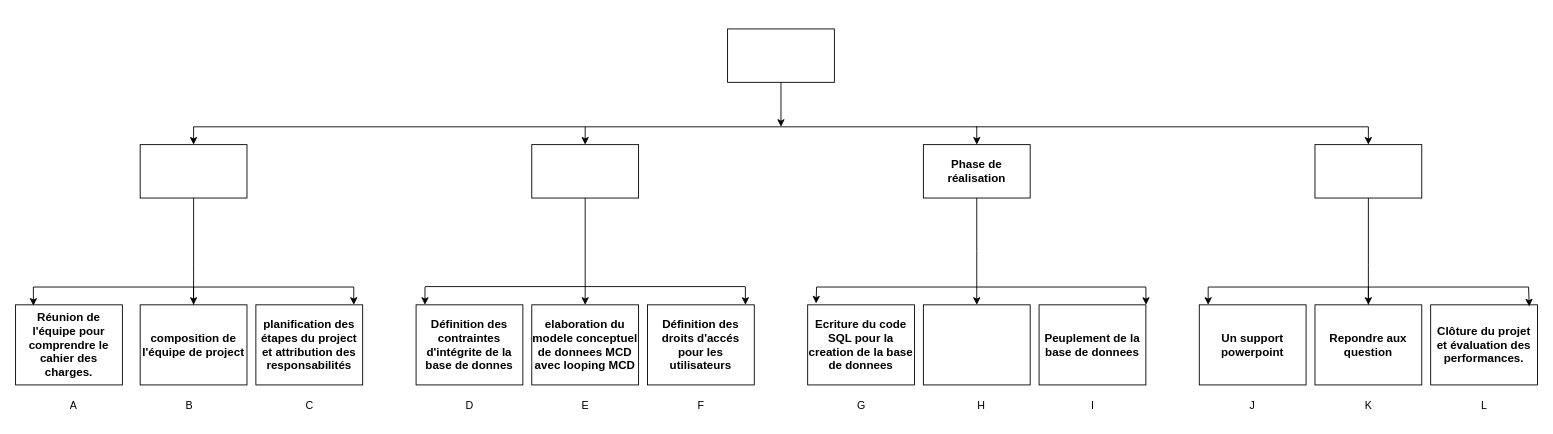
Image size: 1553x434. Some labels were removed from this diagram. Each missing label, with the centre of its shape:
implémentation de fonctionnalité et requêtes: the point at 976,344
Organisation du groupe de travail: the point at 193,171
Phase de conception: the point at 585,171
Presentation: the point at 1368,171
Projet Données et modélisation: the point at 780,55
